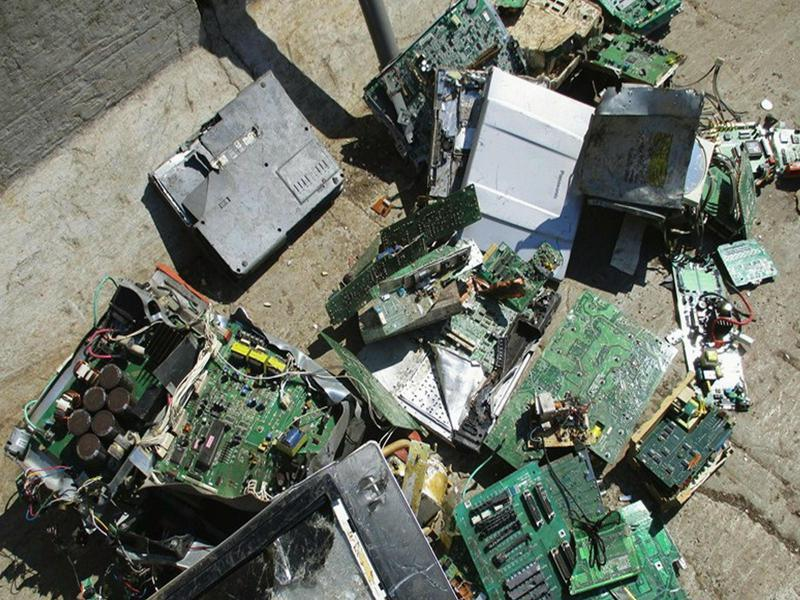circuit_board: (57, 282, 354, 514), (329, 185, 572, 424), (436, 448, 693, 600), (477, 290, 677, 474), (650, 252, 775, 416), (627, 392, 744, 509), (701, 110, 777, 241), (588, 32, 697, 90), (712, 236, 791, 290)
